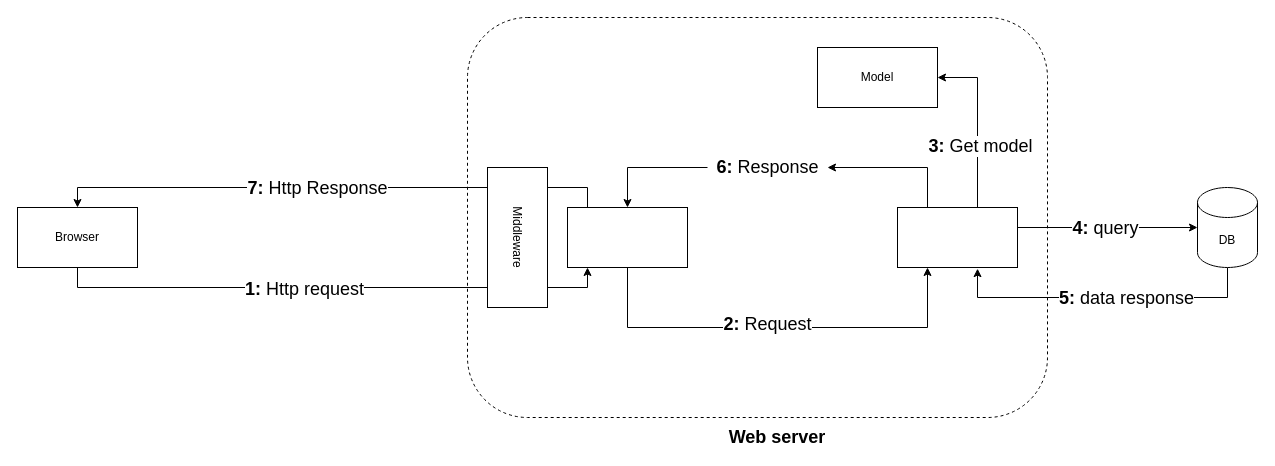
Image size: 1275x466. Some labels were removed from this diagram. The shapes that lost their labels are listed below. From the top down, each one's centre as x and y in pixels, then its label:
[627,237]: View (Router)
[957,237]: Controler
